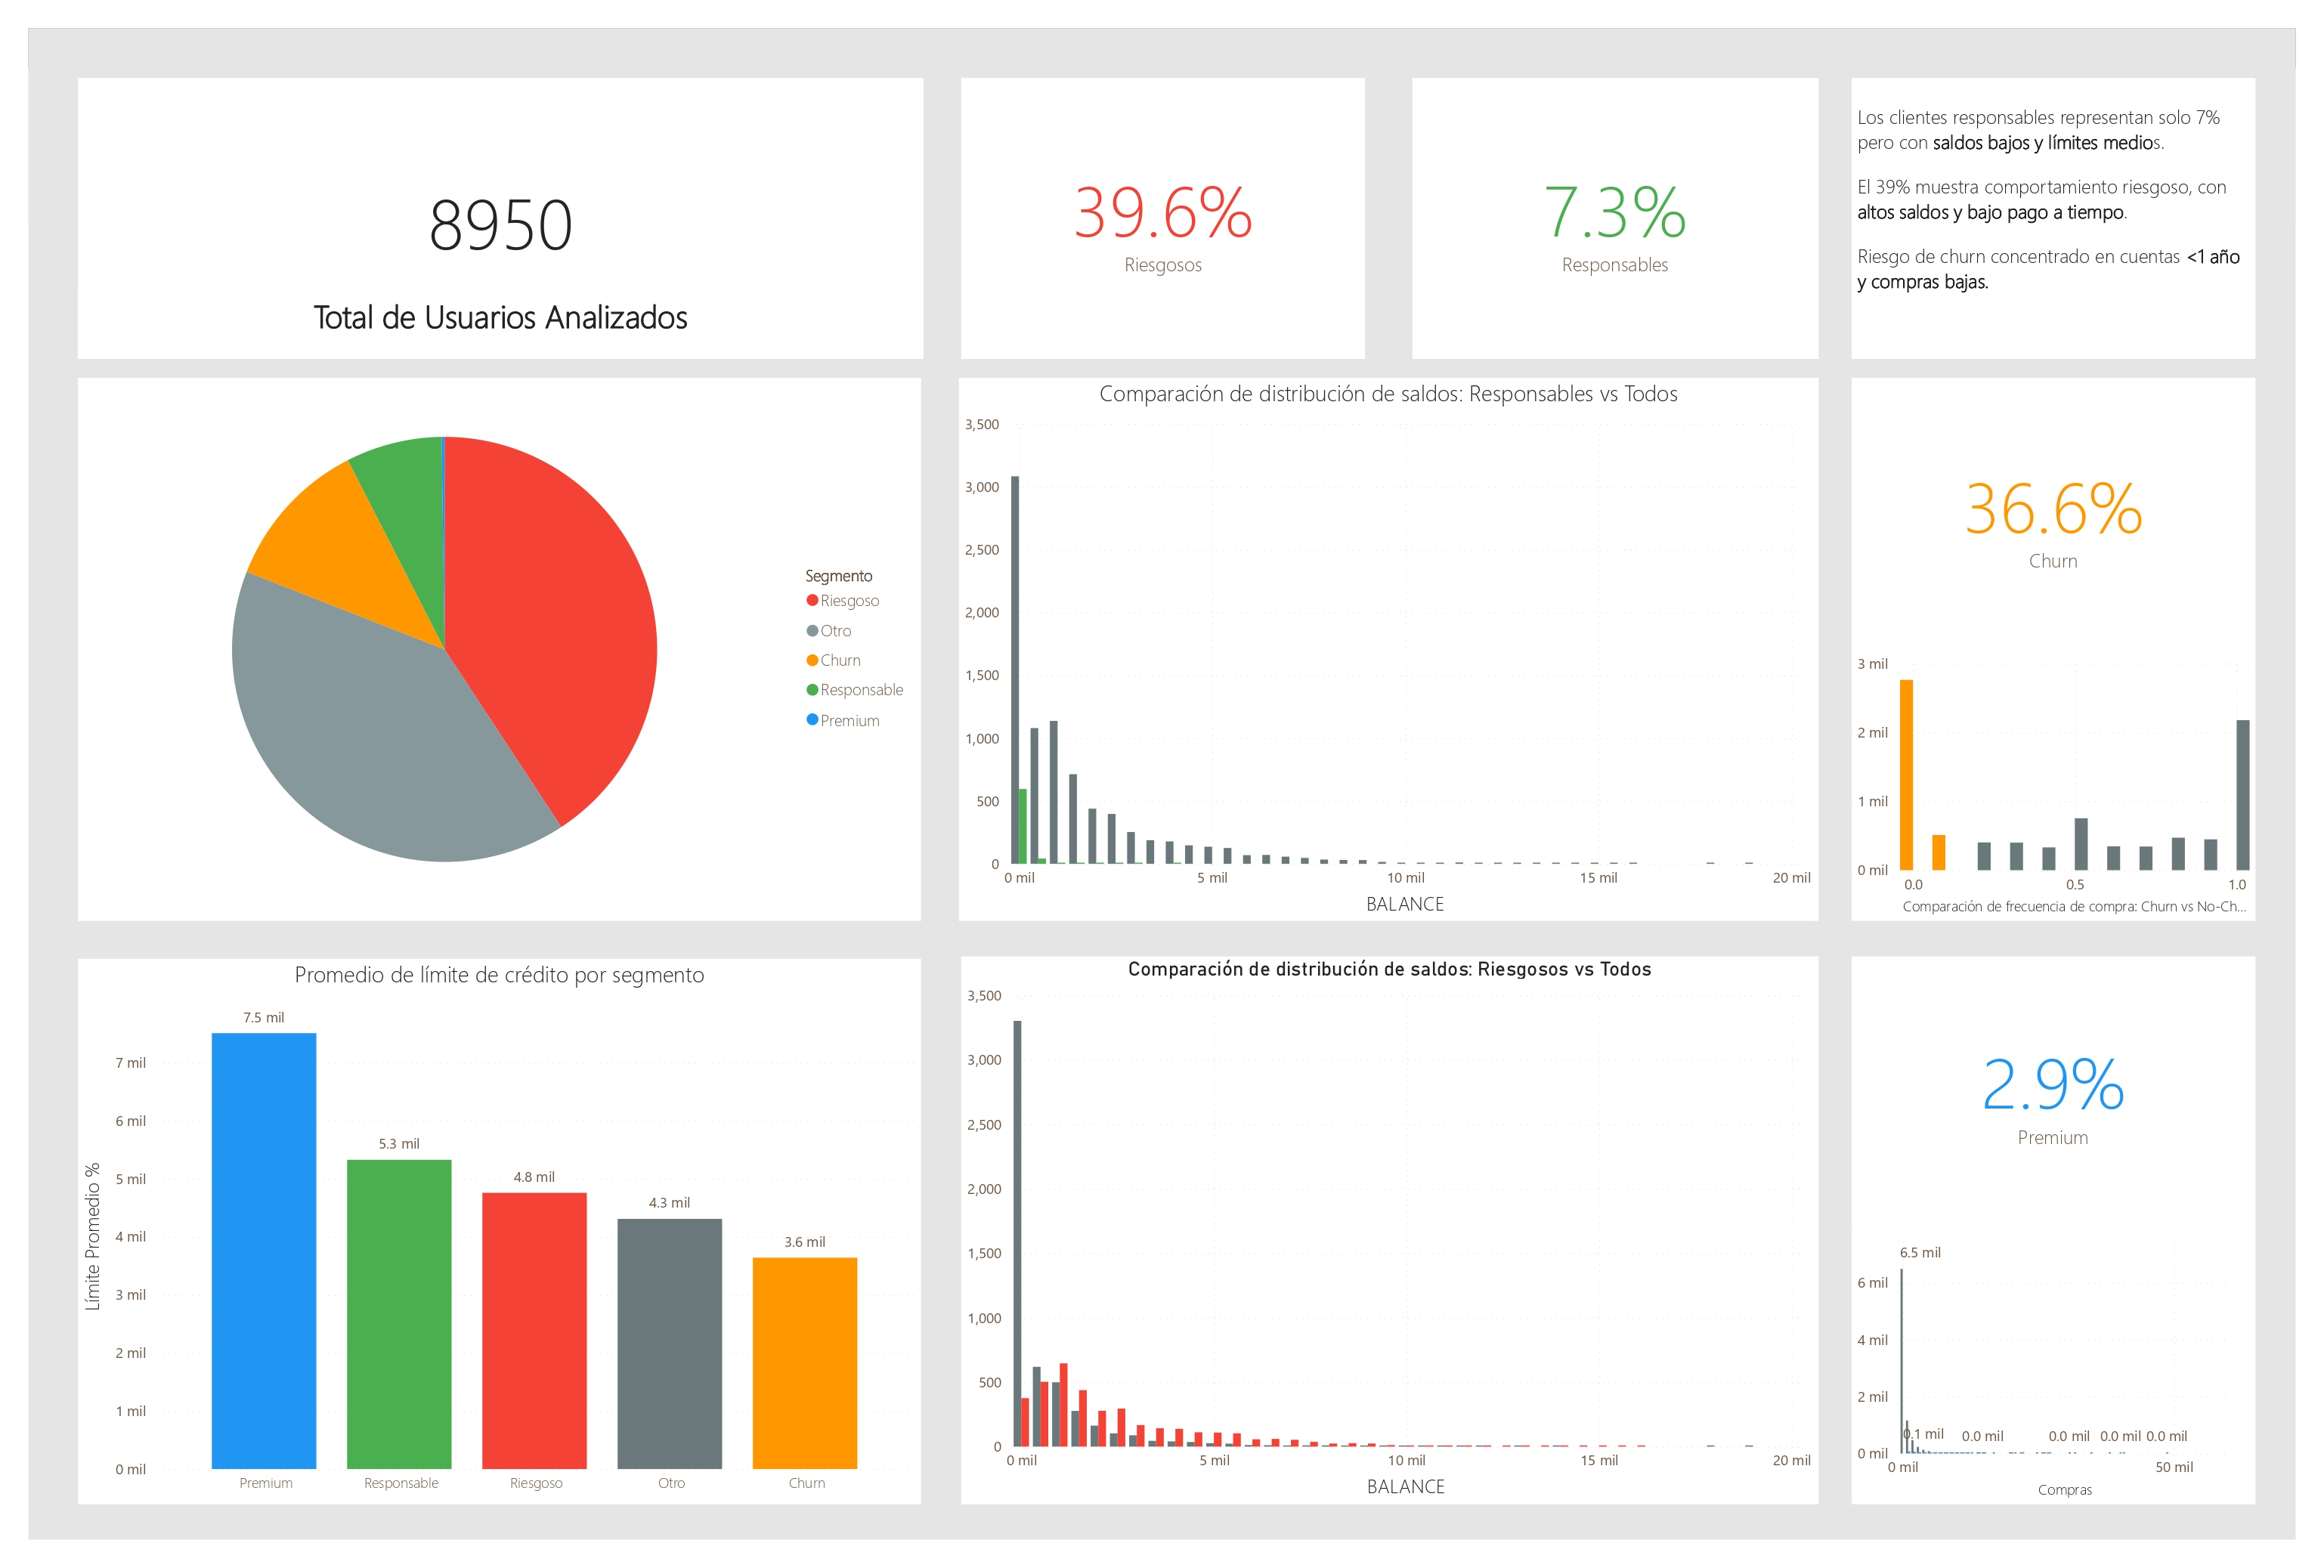

The page's visual inventory and layout, read from the dashboard file:
{"tool":"powerbi","page":{"name":"Página 1","canvas":[1920,1280],"ordinal":0},"visuals":[{"type":"card","fields":{"Values":["CountNonNull(credit_cards_full.CUST_ID)"]},"box":[42,42,716,238],"z":0},{"type":"card","fields":{"Values":["credit_cards_full.%Responsables"]},"box":[1172,42,344,238],"z":1000},{"type":"card","fields":{"Values":["credit_cards_full.%Riesgosos"]},"box":[790,42,342,238],"z":2000},{"type":"card","fields":{"Values":["credit_cards_full.%Premium"]},"box":[1544,786,342,228],"z":3000},{"type":"card","fields":{"Values":["credit_cards_full.%Churn"]},"box":[1544,296,342,232],"z":4000},{"type":"textbox","box":[42,220,716,60],"z":5000},{"type":"clusteredColumnChart","title":"Comparación de distribución de saldos: Riesgosos vs Todos","fields":{"Category":["credit_cards_full.BALANCE (ubicaciones)"],"Y":["CountNonNull(credit_cards_full.CUST_ID)"],"Series":["credit_cards_full.EsRiesgoso"]},"box":[790,786,726,464],"z":6000},{"type":"clusteredColumnChart","fields":{"Category":["credit_cards_full.PURCHASES_FREQUENCY (ubicaciones)"],"Y":["CountNonNull(credit_cards_full.CUST_ID)"],"Series":["credit_cards_full.EtiquetaChurn"]},"box":[1544,524,342,232],"z":7000},{"type":"clusteredColumnChart","title":"Comparación de distribución de compras: Premium vs Todos","fields":{"Category":["credit_cards_full.PURCHASES (ubicaciones)"],"Y":["CountNonNull(credit_cards_full.CUST_ID)"],"Series":["credit_cards_full.EsPremium"]},"box":[1544,1014,342,236],"z":8000},{"type":"clusteredColumnChart","title":"Promedio de límite de crédito por segmento","fields":{"Category":["credit_cards_full.Segmento"],"Y":["Avg(credit_cards_full.CREDIT_LIMIT)"]},"box":[42,788,714,462],"z":9000},{"type":"pieChart","fields":{"Category":["credit_cards_full.Segmento"],"Y":["CountNonNull(credit_cards_full.CUST_ID)"]},"box":[42,296,714,460],"z":10000},{"type":"clusteredColumnChart","title":"Comparación de distribución de saldos: Responsables vs Todos","fields":{"Category":["credit_cards_full.BALANCE (ubicaciones)"],"Y":["CountNonNull(credit_cards_full.CUST_ID)"],"Series":["credit_cards_full.EsResponsable"]},"box":[788,296,728,460],"z":11000},{"type":"textbox","box":[1544,42,342,238],"z":12000}]}

Visuals, with their boxes in screenshot pixels (x1, y1, x2, y2):
card - CountNonNull(credit_cards_full.CUST_ID): BBox(78, 78, 924, 359)
card - credit_cards_full.%Responsables: BBox(1413, 78, 1818, 359)
card - credit_cards_full.%Riesgosos: BBox(961, 78, 1365, 359)
card - credit_cards_full.%Premium: BBox(1852, 957, 2255, 1226)
card - credit_cards_full.%Churn: BBox(1852, 378, 2255, 651)
textbox: BBox(78, 288, 924, 359)
"Comparación de distribución de saldos: Riesgosos vs Todos" clusteredColumnChart: BBox(961, 957, 1818, 1505)
clusteredColumnChart - credit_cards_full.PURCHASES_FREQUENCY (ubicaciones) x CountNonNull(credit_cards_full.CUST_ID): BBox(1852, 647, 2255, 921)
"Comparación de distribución de compras: Premium vs Todos" clusteredColumnChart: BBox(1852, 1226, 2255, 1505)
"Promedio de límite de crédito por segmento" clusteredColumnChart: BBox(78, 959, 921, 1505)
pieChart - credit_cards_full.Segmento x CountNonNull(credit_cards_full.CUST_ID): BBox(78, 378, 921, 921)
"Comparación de distribución de saldos: Responsables vs Todos" clusteredColumnChart: BBox(959, 378, 1818, 921)
textbox: BBox(1852, 78, 2255, 359)
